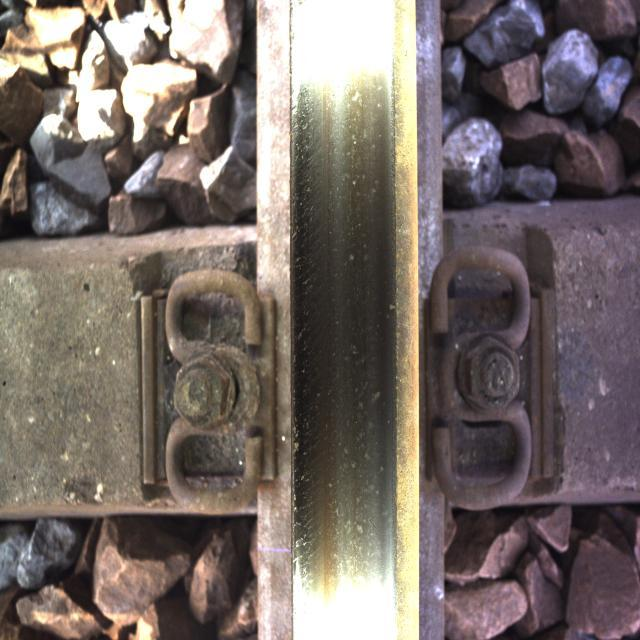break: (299, 61, 390, 620)
